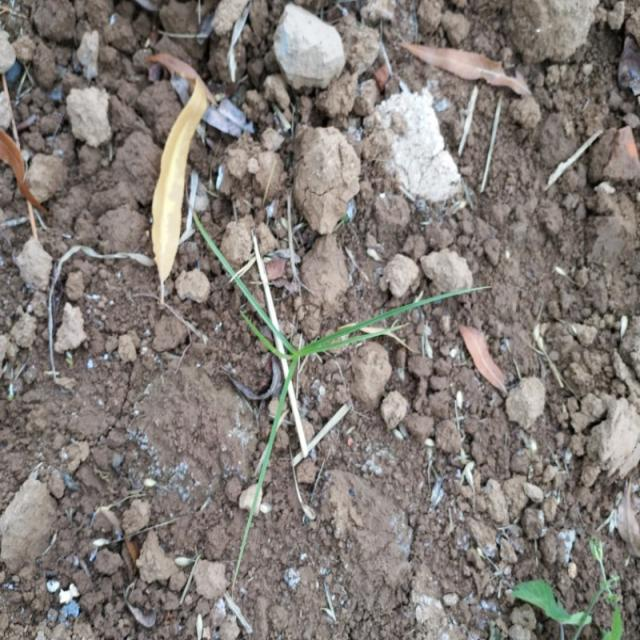sedge: (185, 192, 452, 475)
